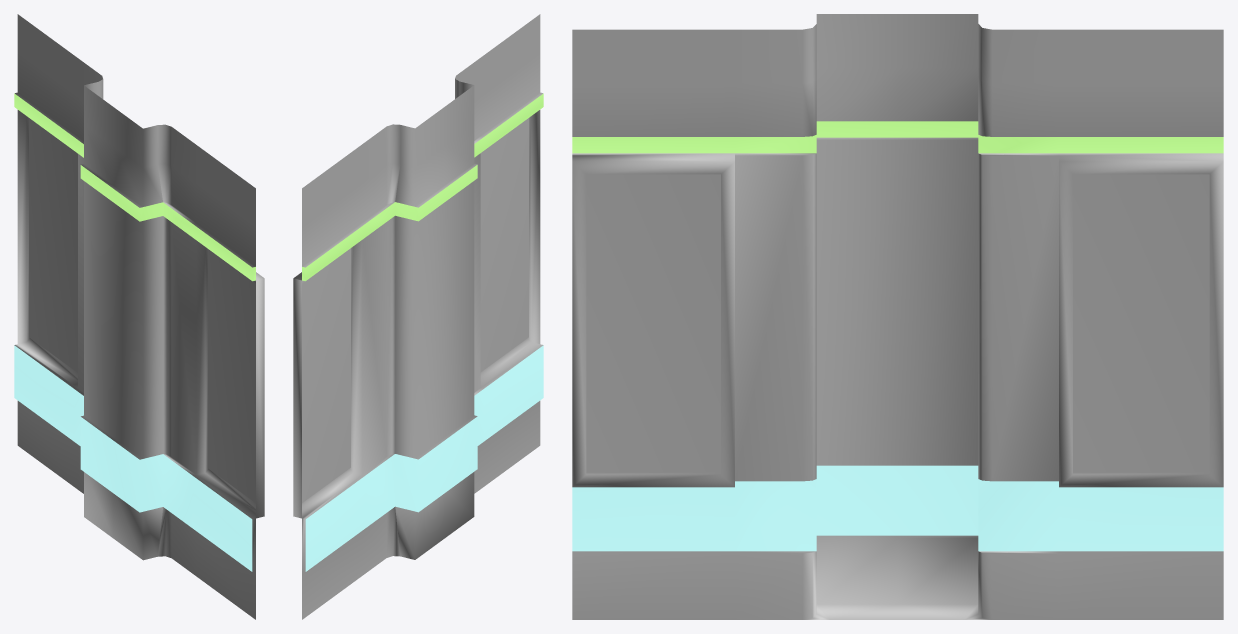
The model's file is sm_wall.glb.
3 views of the same model, side by side, from view 1: azimuth 30°, elevation 25°; view 2: azimuth 150°, elevation 25°; view 3: azimuth 270°, elevation 25° (orthographic). The views are drawn at different scales.
Visible parts, largest first — view 1: Wall; view 2: Wall; view 3: Wall.
Boxes of the visible parts, x1,y1,x2,y2 form: Wall: (14, 14, 264, 619); Wall: (293, 14, 543, 619); Wall: (572, 14, 1223, 619).
Size of the model in its own units: 0.1729 by 2 by 2.
